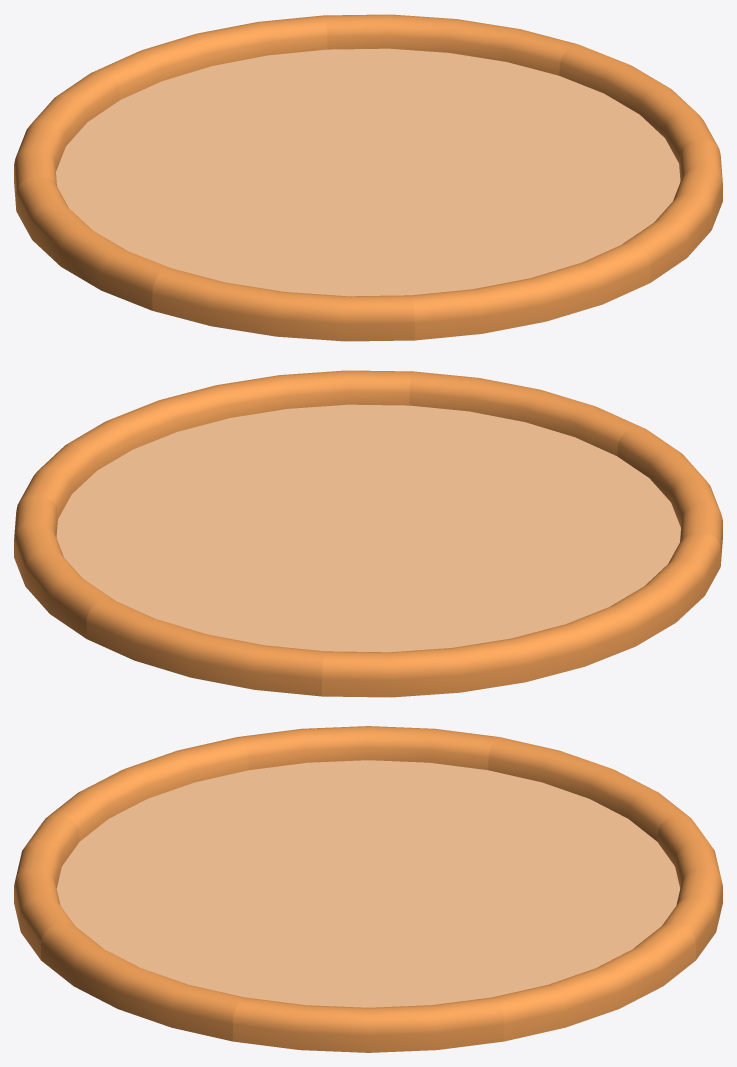
The model's file is Dough Classic A.fbx.
The picture shows the model from 3 angles, top to bottom: view 1: azimuth 30°, elevation 25°; view 2: azimuth 150°, elevation 25°; view 3: azimuth 270°, elevation 25°; orthographic projection.
Parts seen in each view (by area): view 1: Dough.031, Dough.027, Dough.030, Dough.026, Dough.032, Dough.028, Dough.029, Dough.033; view 2: Dough.033, Dough.029, Dough.026, Dough.030, Dough.032, Dough.028, Dough.027, Dough.031; view 3: Dough.032, Dough.028, Dough.027, Dough.029, Dough.031, Dough.033, Dough.026, Dough.030.
Part boxes in pixels (x1,y1,x2,y2): Dough.031: (152,181,414,341); Dough.027: (323,14,577,180); Dough.030: (368,181,650,340); Dough.026: (96,15,368,180); Dough.032: (16,176,367,310); Dough.028: (369,44,718,180); Dough.029: (369,140,722,282); Dough.033: (14,71,367,209); Dough.033: (322,537,584,697); Dough.029: (159,370,413,536); Dough.026: (86,537,368,696); Dough.030: (368,371,640,536); Dough.032: (369,532,720,666); Dough.028: (18,400,367,536); Dough.027: (14,496,367,638); Dough.031: (369,427,722,565); Dough.032: (237,726,499,891); Dough.028: (233,892,503,1052); Dough.027: (369,892,695,1041); Dough.029: (41,892,367,1041); Dough.031: (46,737,367,891); Dough.033: (369,737,690,891); Dough.026: (369,815,722,959); Dough.030: (14,815,367,959).
Size of the model in its own units: 2 by 0.1032 by 2.
